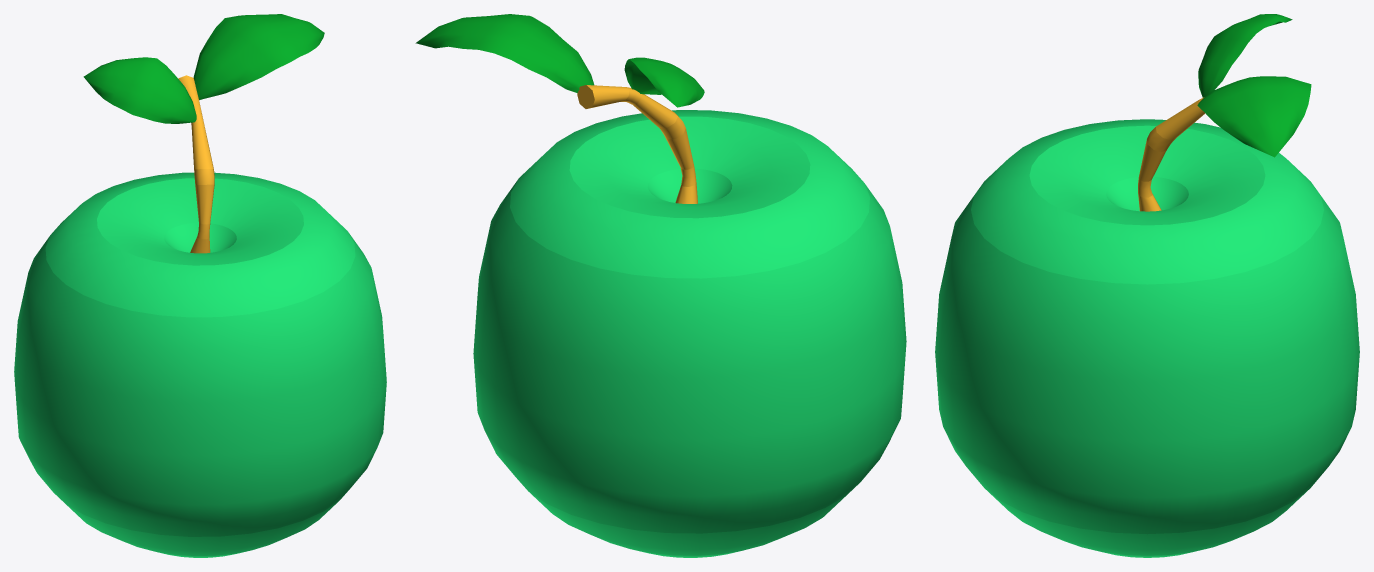
File: green-apple.glb
3 views of the same model, side by side, from view 1: azimuth 30°, elevation 25°; view 2: azimuth 150°, elevation 25°; view 3: azimuth 270°, elevation 25° (orthographic). The views are drawn at different scales.
Visible parts, largest first — view 1: Cylinder; view 2: Cylinder; view 3: Cylinder.
Part boxes in pixels (box(x1,y1,x2,y2)): Cylinder: box(14, 14, 386, 557); Cylinder: box(415, 14, 906, 557); Cylinder: box(935, 14, 1359, 557).
Bounding box in the file's own units: 1.57 × 1.94 × 1.49.
1 material, 1 textured.
